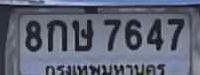4: (146, 17, 162, 50)
6: (124, 18, 141, 49)
7: (103, 18, 120, 50), (167, 18, 183, 50)
8: (24, 19, 41, 51)
A01: (46, 19, 66, 51)
A39: (71, 18, 93, 51)
